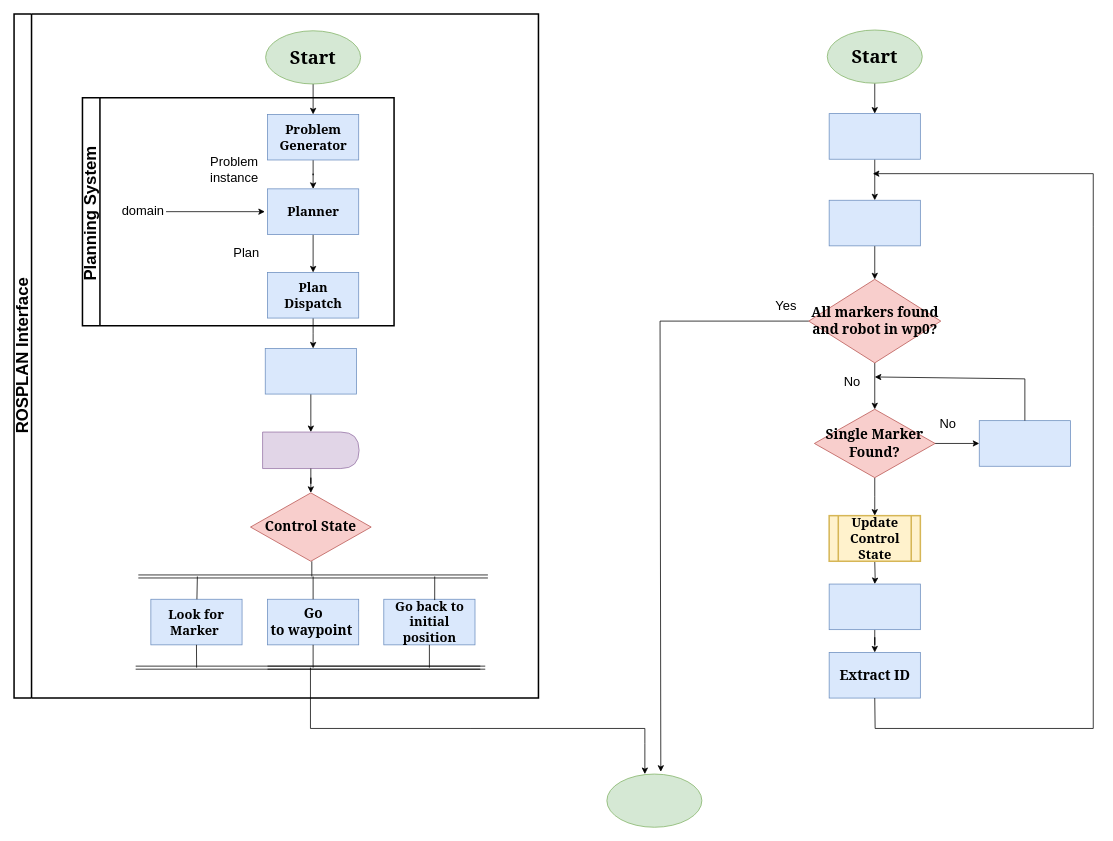
Image size: 1113x841. Some labels were removed from this diagram. Here are the shapes that lost their labels. From the top down, the centre of each, then its label:
At point 874,136: "Launch action server for control".
At point 874,223: "Listen to Goal Request".
At point 310,371: "gmapping".
At point 310,450: "Wait".
At point 1024,443: "Rotate to search for marker".
At point 874,606: "Move toward Marker".
At point 654,800: "End".
